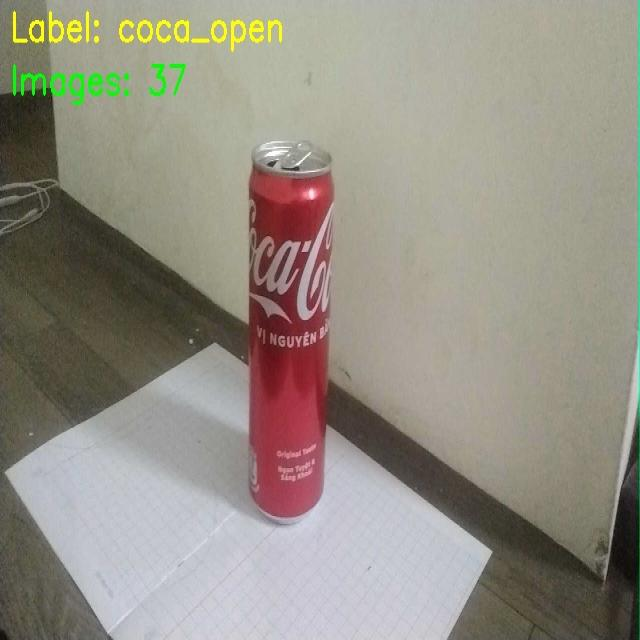Coca_open: (234, 111, 346, 523)
